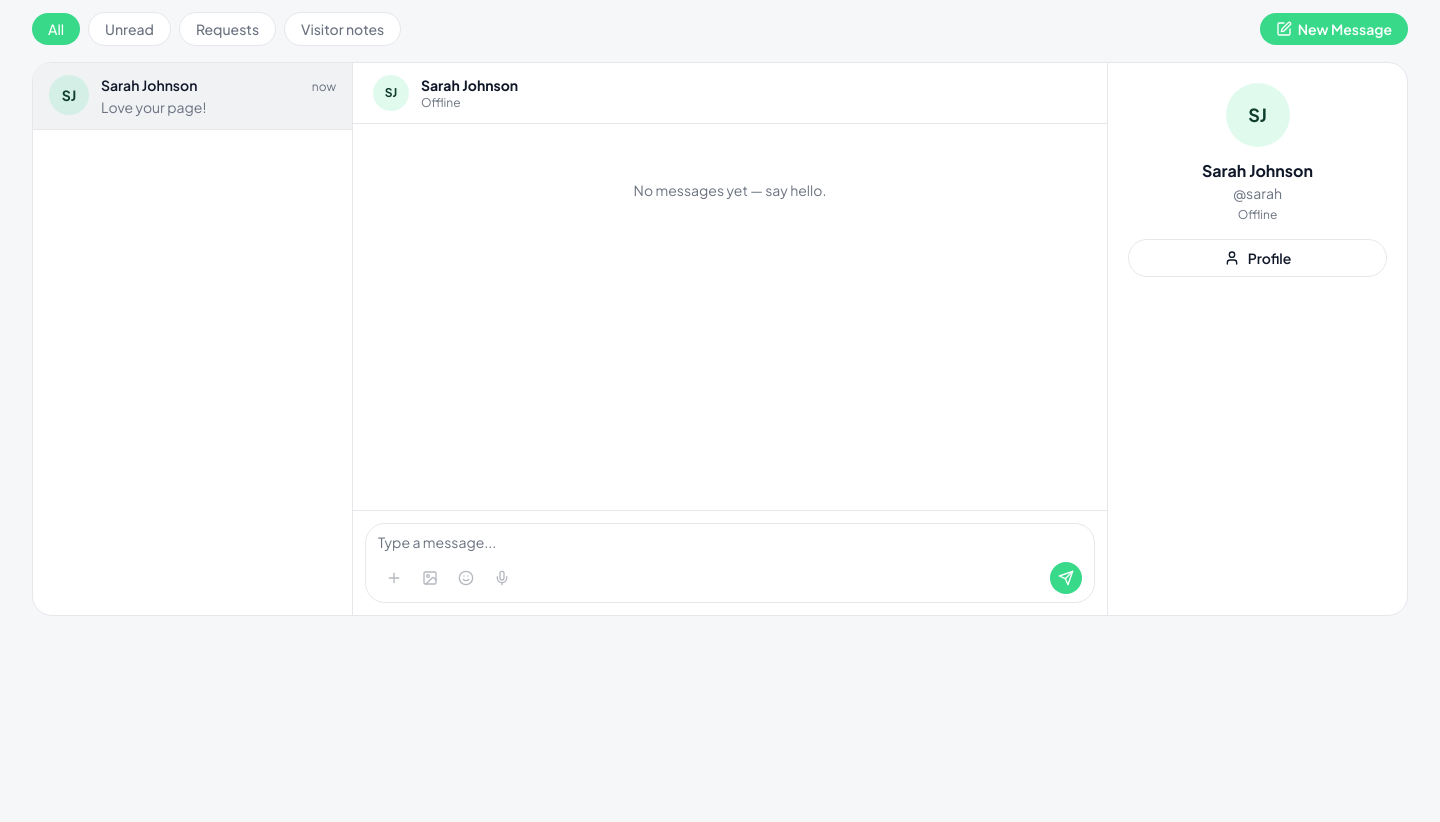
Test: MessagesClient › appends an optimistic message immediately on send
In the text box with placeholder "Type a message...": (730, 542) [378, 532, 1082, 552], type "hi there"
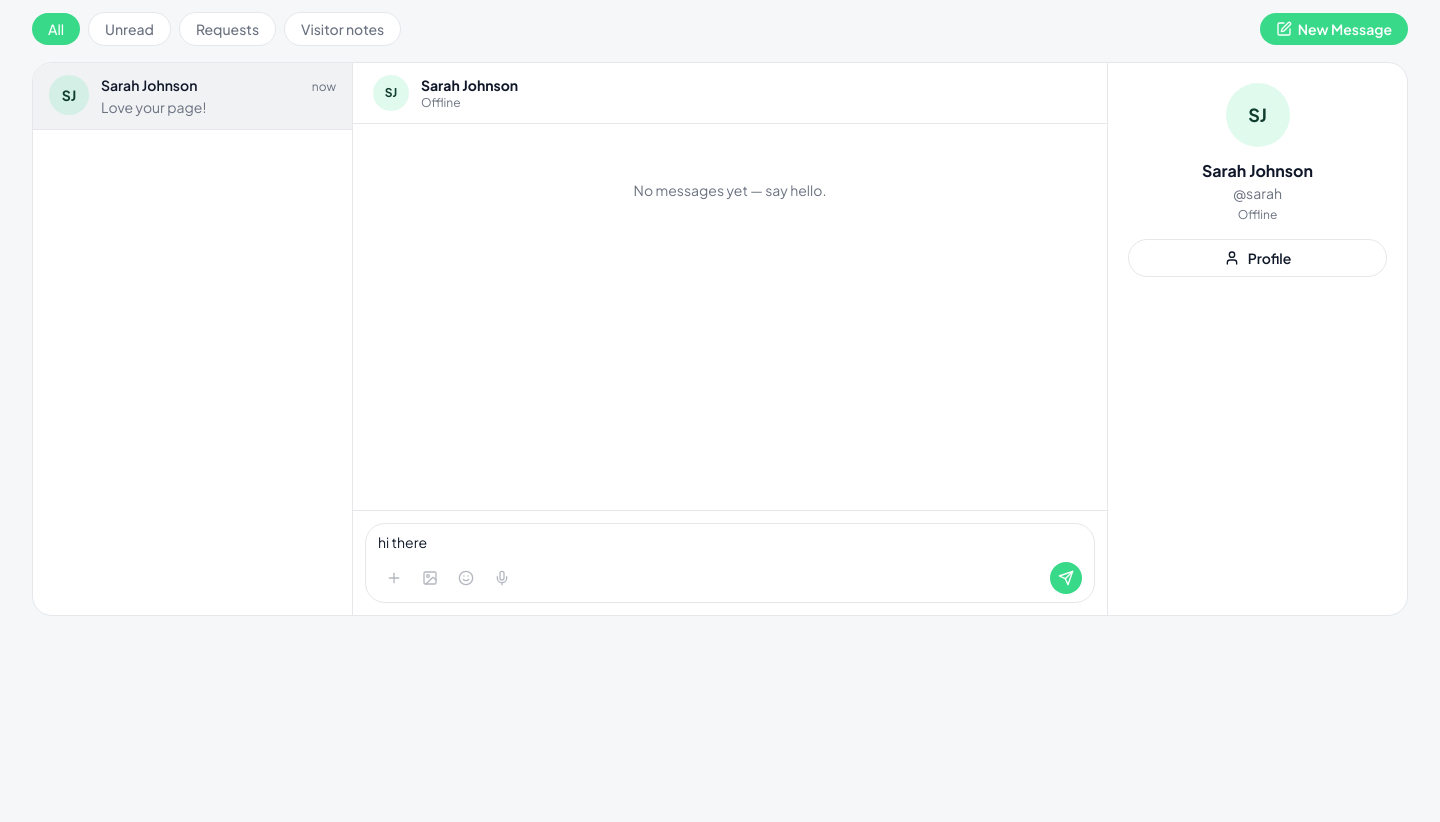
Click the button named "send message": (1066, 578) [1050, 562, 1082, 594]
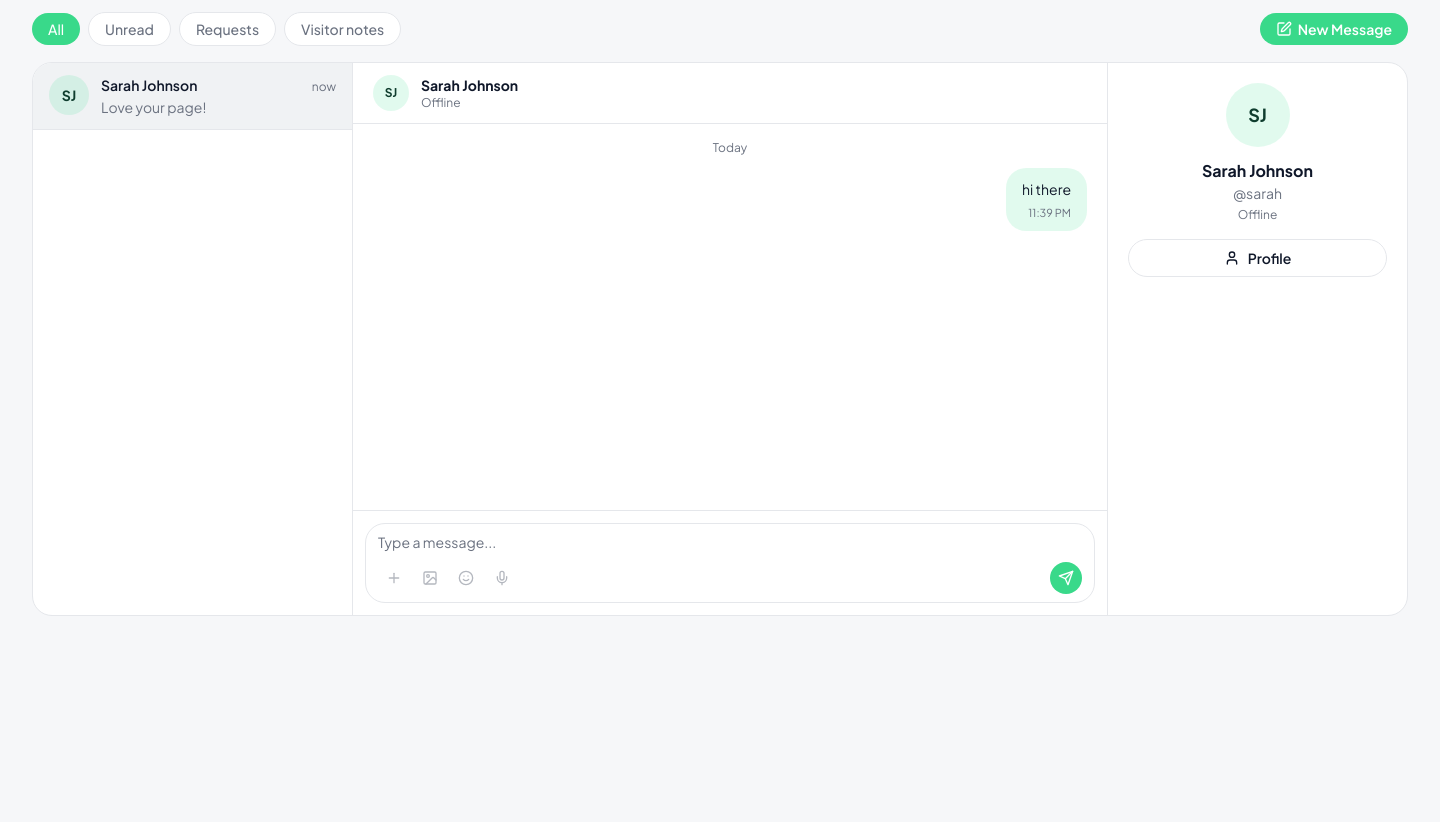
Expected: the text "hi there" is shown, [1022, 178, 1071, 201]
